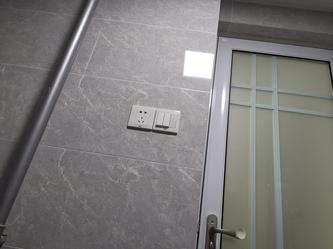switch: (156, 110, 161, 127), (173, 112, 177, 131), (165, 110, 168, 128)
